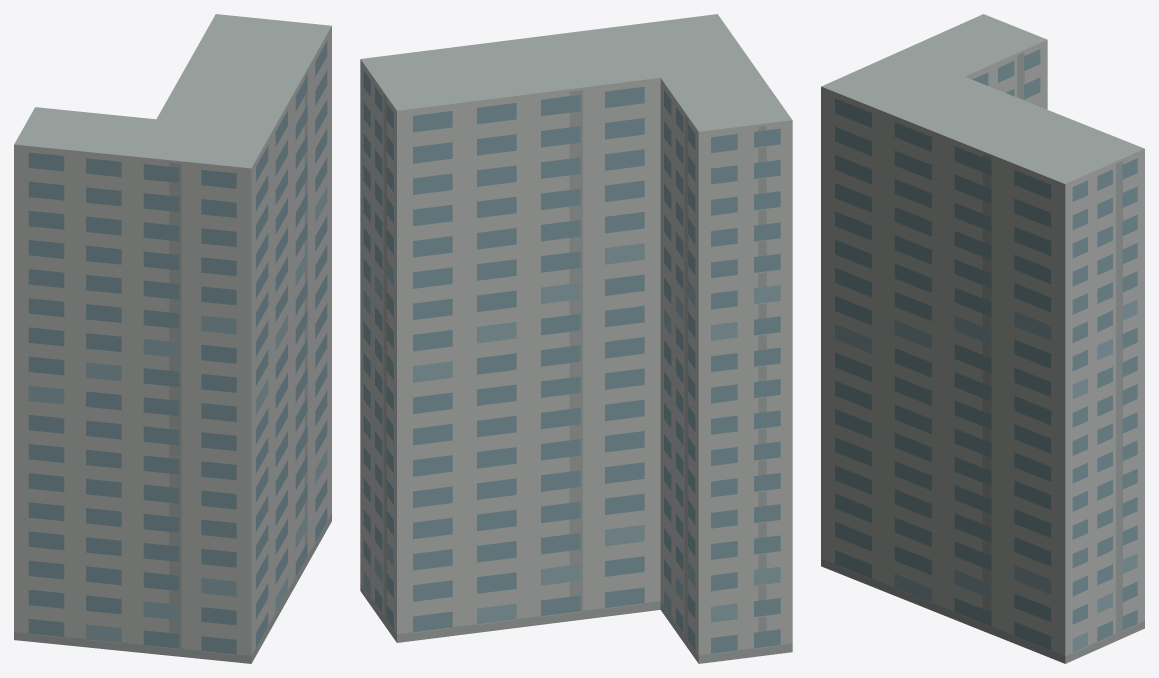
File: residential-a8a2dedd-d7b3-4508-9c58-e37bd8cb9d9e.glb
3 renders of one model, left to right at view 1: azimuth 30°, elevation 25°; view 2: azimuth 150°, elevation 25°; view 3: azimuth 270°, elevation 25°, orthographic. The views are drawn at different scales.
Parts seen in each view (by area): view 1: residential-a8a2dedd-d7b3-4508-9c58-e37bd8cb9d9e.tmp; view 2: residential-a8a2dedd-d7b3-4508-9c58-e37bd8cb9d9e.tmp; view 3: residential-a8a2dedd-d7b3-4508-9c58-e37bd8cb9d9e.tmp.
Boxes of the visible parts, <box> form: residential-a8a2dedd-d7b3-4508-9c58-e37bd8cb9d9e.tmp: <box>14,14,331,663</box>; residential-a8a2dedd-d7b3-4508-9c58-e37bd8cb9d9e.tmp: <box>360,14,792,663</box>; residential-a8a2dedd-d7b3-4508-9c58-e37bd8cb9d9e.tmp: <box>821,14,1144,663</box>.
Bounding box in the file's own units: 38.8 × 51 × 31.19.
